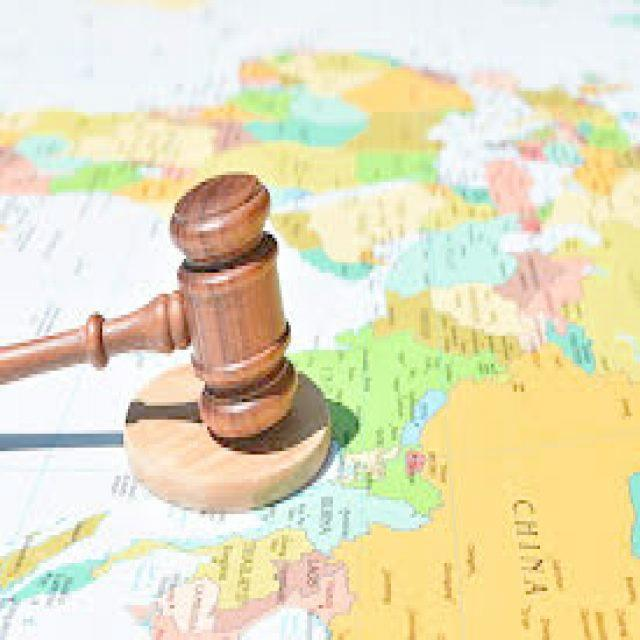hammer: (0, 157, 300, 469)
